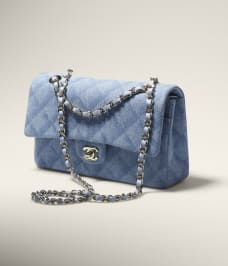channel: (9, 62, 196, 199), (134, 83, 160, 192), (76, 141, 107, 167)
